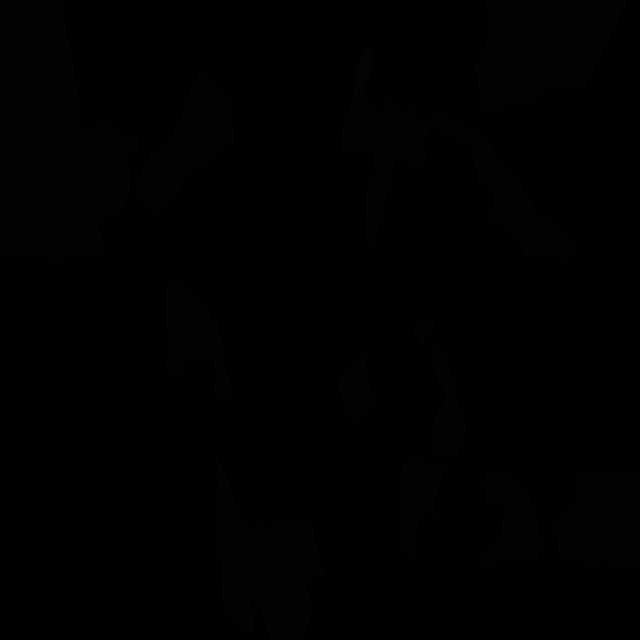cardboard: (364, 92, 582, 268), (0, 0, 108, 262), (472, 0, 628, 118), (132, 70, 235, 218), (159, 273, 234, 402), (0, 55, 45, 259), (554, 468, 640, 570), (410, 314, 468, 461), (249, 517, 331, 607), (477, 466, 542, 570), (82, 115, 142, 227), (398, 457, 448, 564), (218, 518, 255, 633), (251, 573, 314, 640), (338, 85, 386, 157), (336, 351, 378, 425), (216, 454, 241, 543)
soft_plastic: (352, 46, 374, 99)
